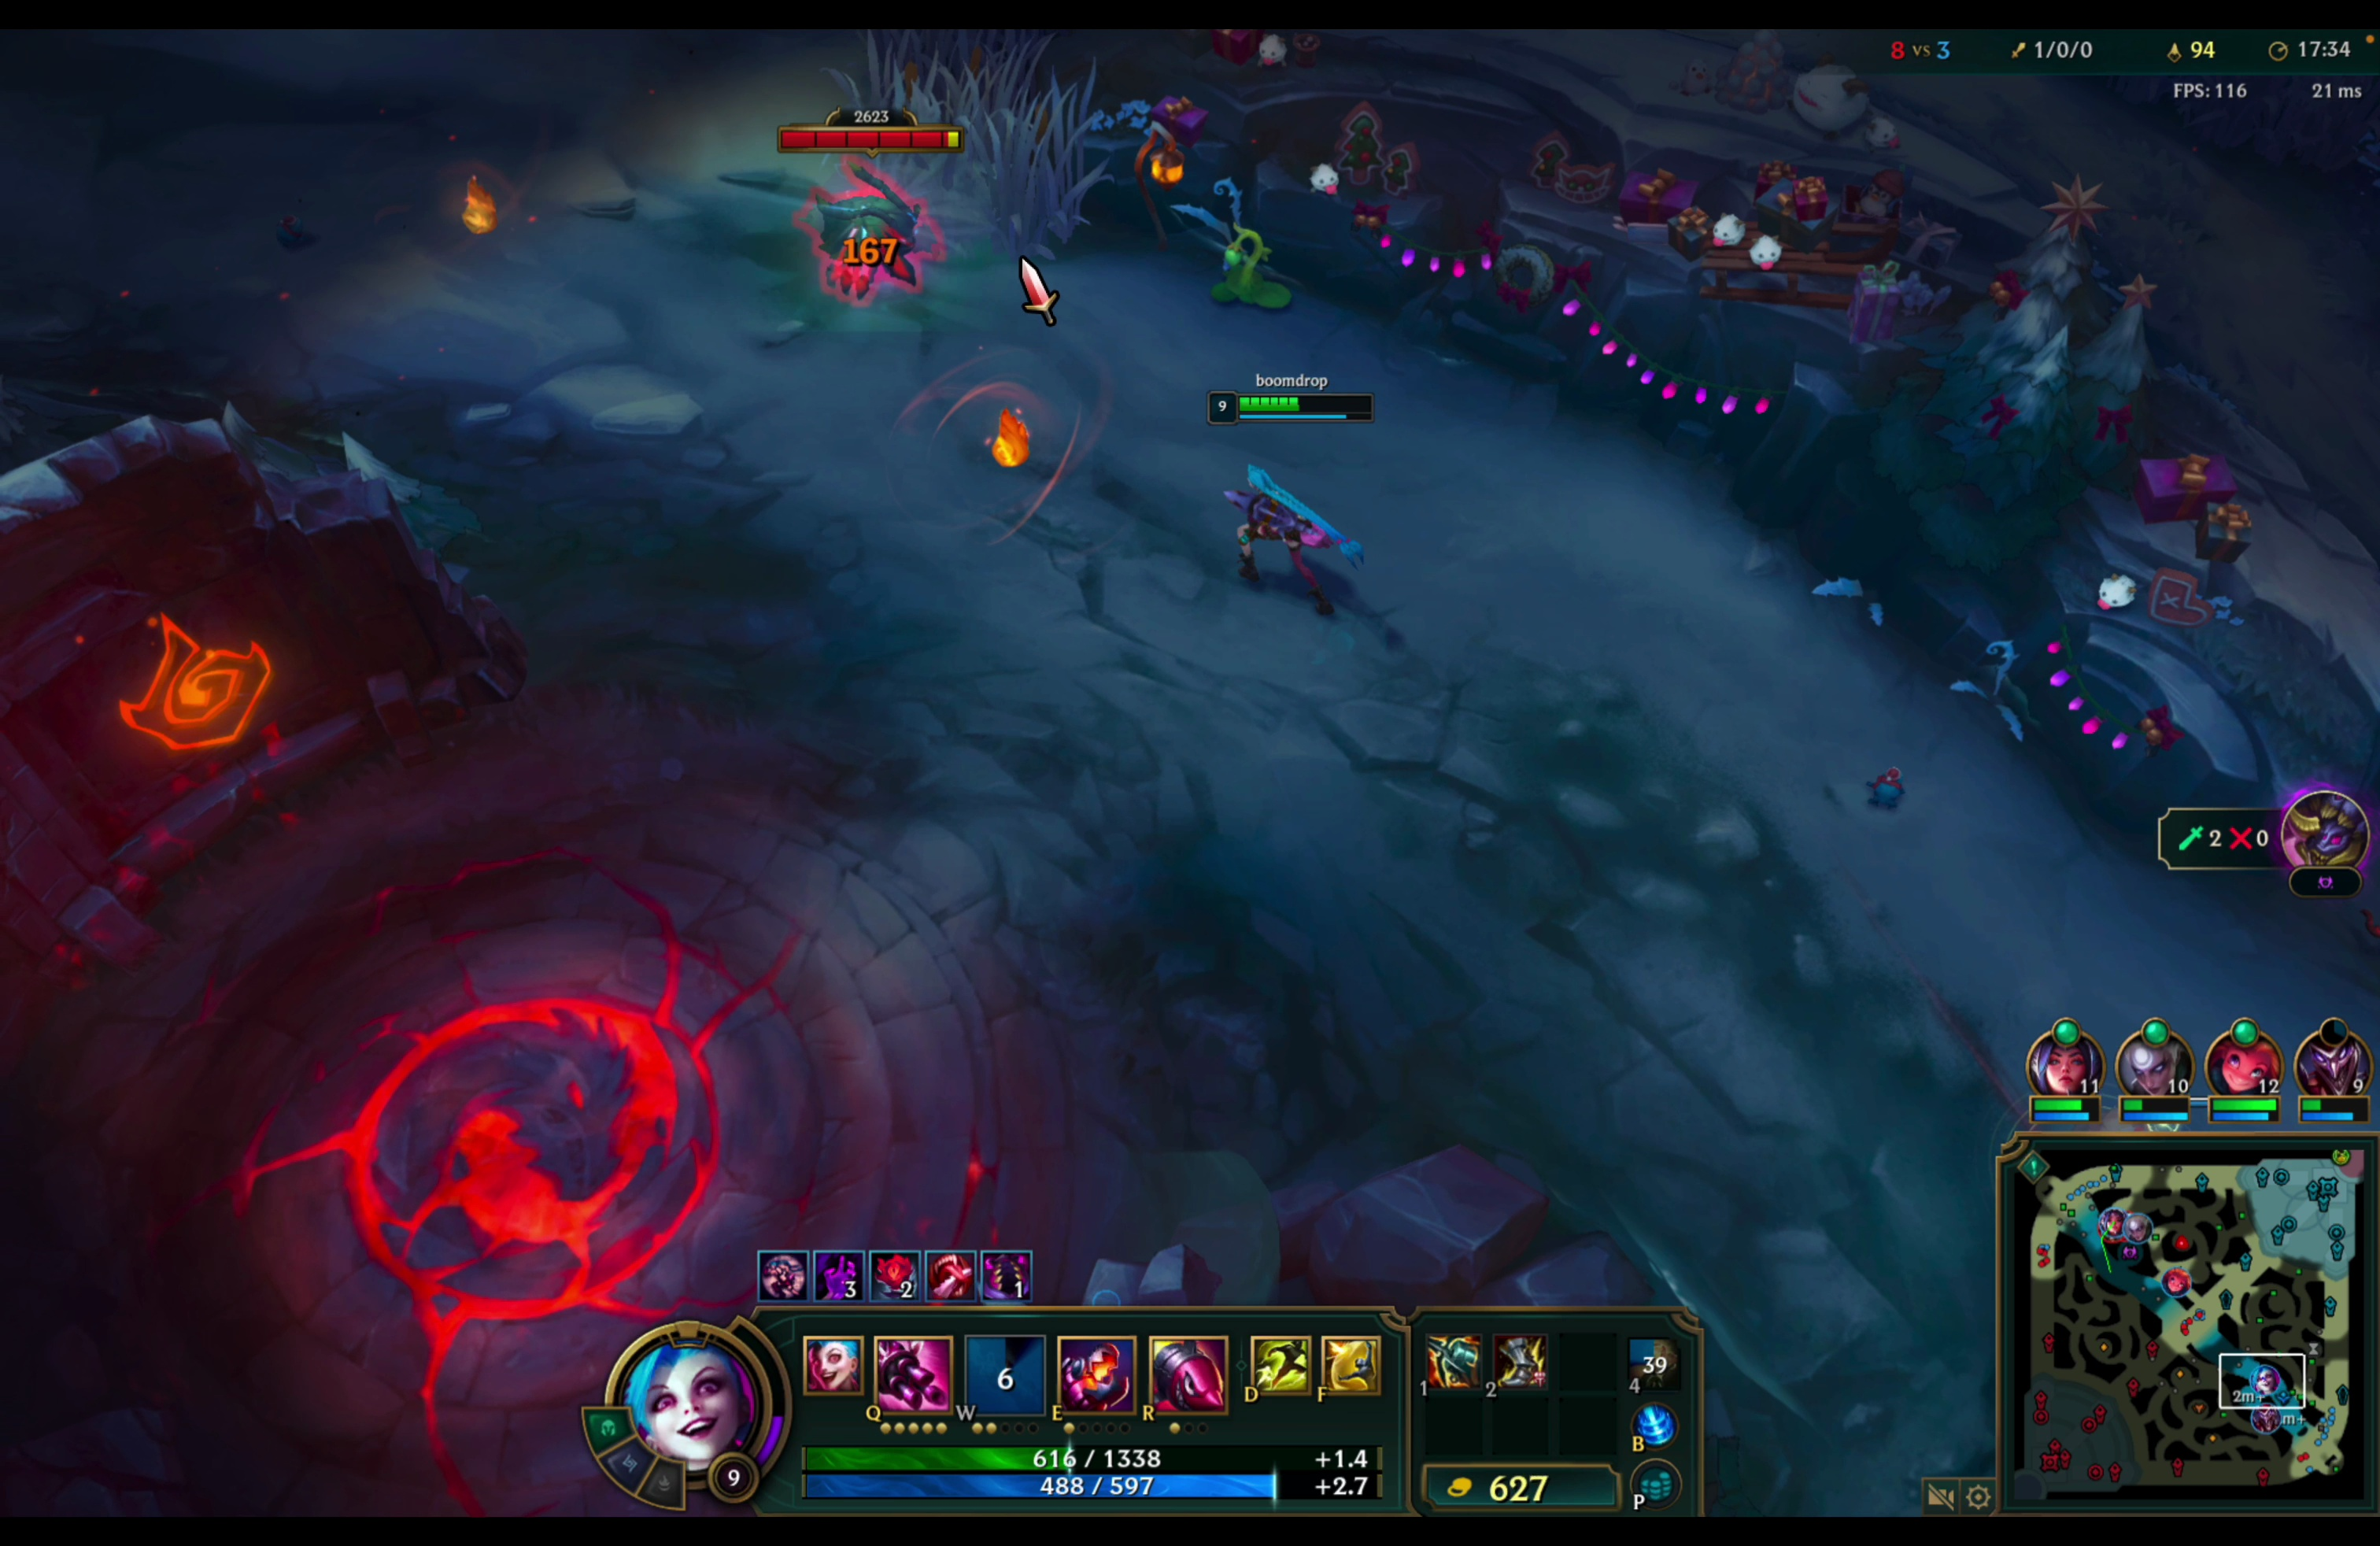LABEL_W_IMPACT: (720, 59, 996, 335)
